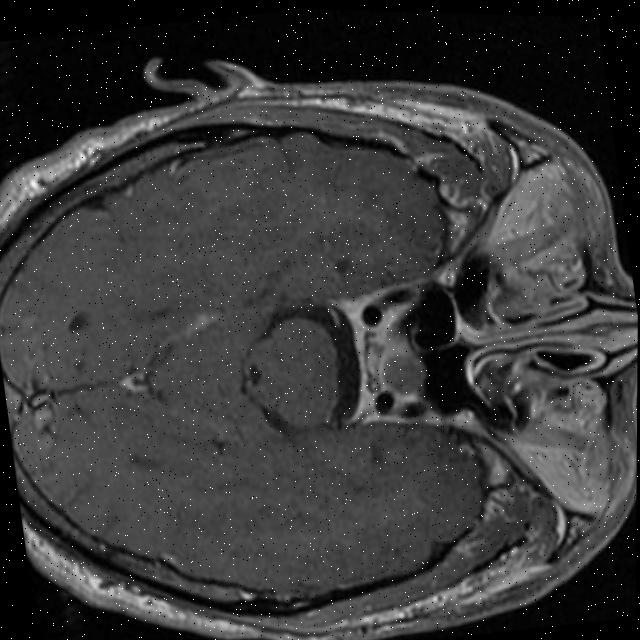Pituitary: (377, 350, 429, 399)
